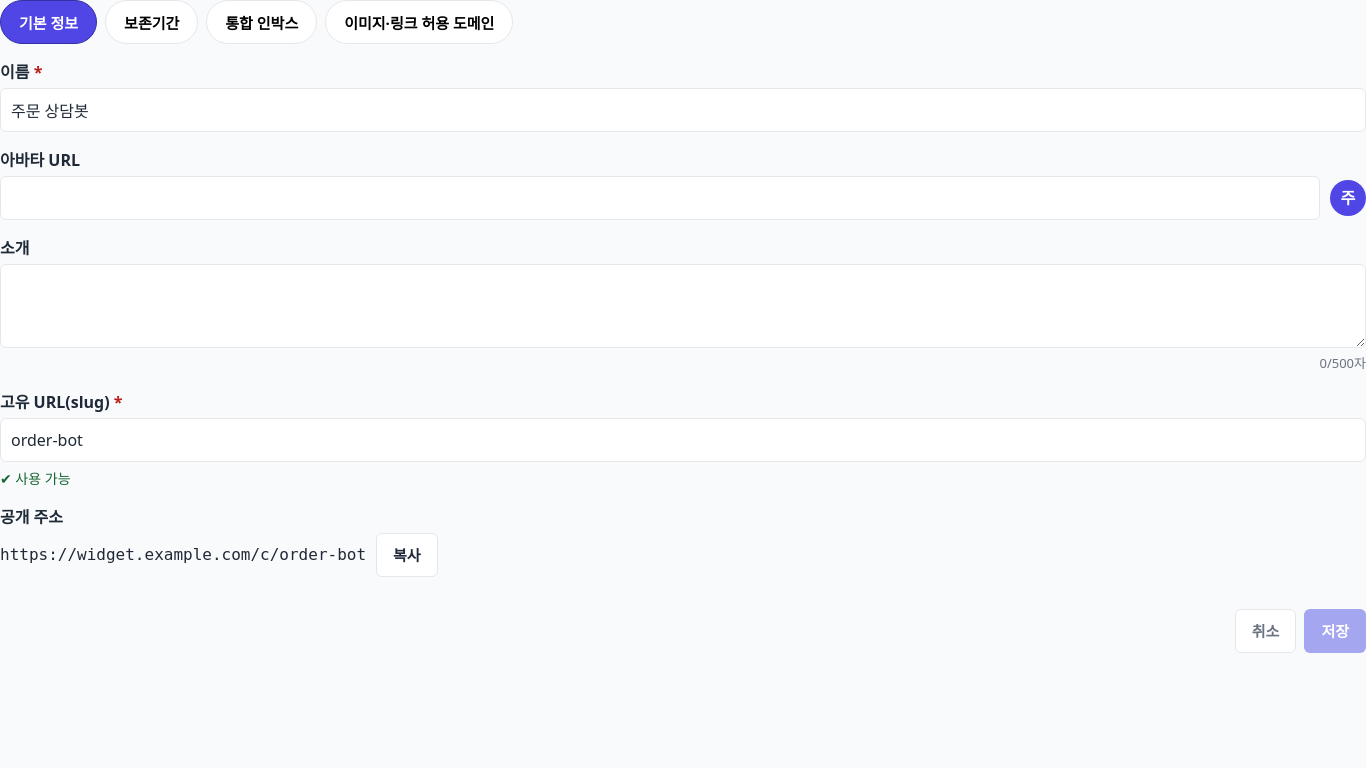
it: SettingsTab — slug 변경 경고 모달 (AC-3-7) › slug를 변경 후 저장을 누르면 경고 모달이 먼저 뜨고, PATCH는 아직 전송되지 않는다
Step 1. Replace the text in the field labelled "고유 URL(slug) *" with "order-bot-v2" → (683, 440), box [0,418,1365,462]
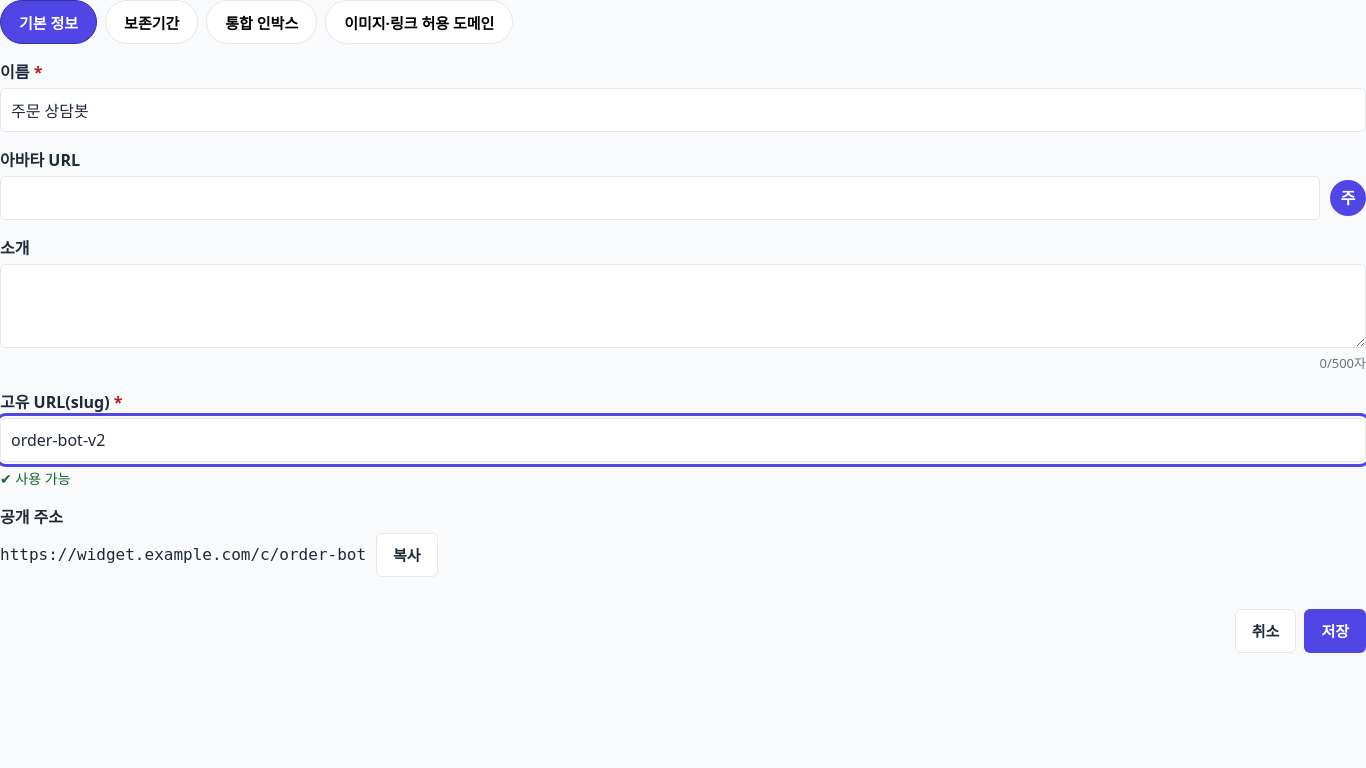
Step 2. Click the button "저장" → (1335, 630), box [1304,608,1365,652]
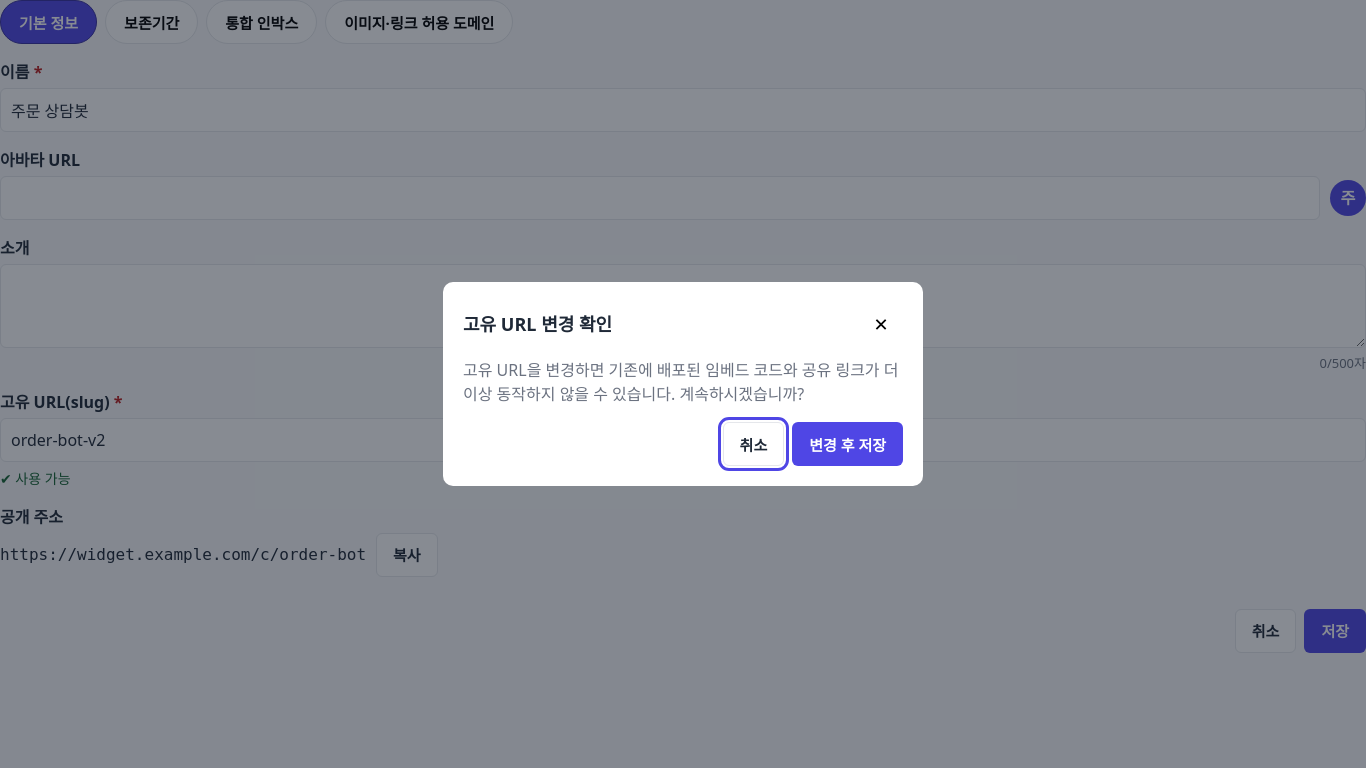
Now the dialog "고유 URL 변경 확인" shows "기존에 배포된 임베드 코드와 공유 링크가 더 이상 동작하지 않을 수 있습니다", box [463,359,898,405]
